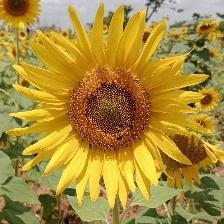sunflower: (10, 3, 211, 211)
